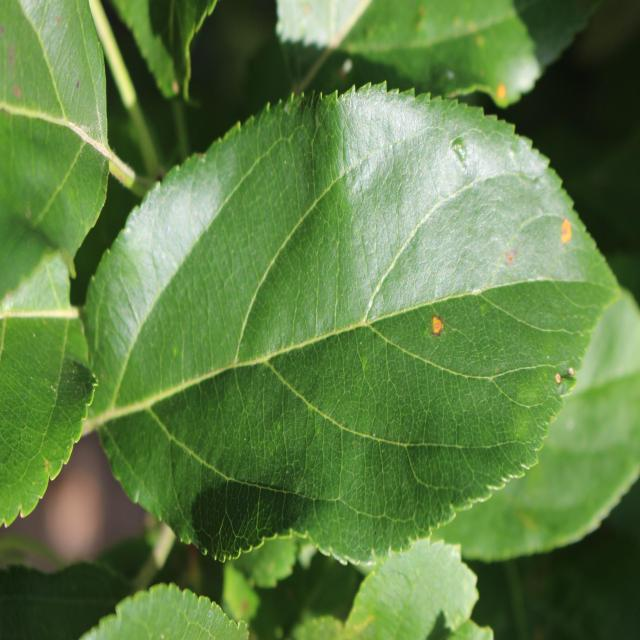Rust: (417, 302, 459, 355), (495, 232, 526, 289), (552, 203, 579, 246)
